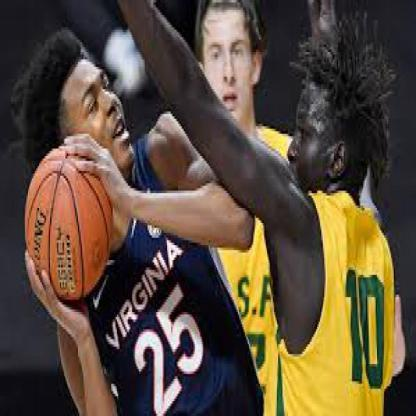basketball: (24, 146, 112, 302)
